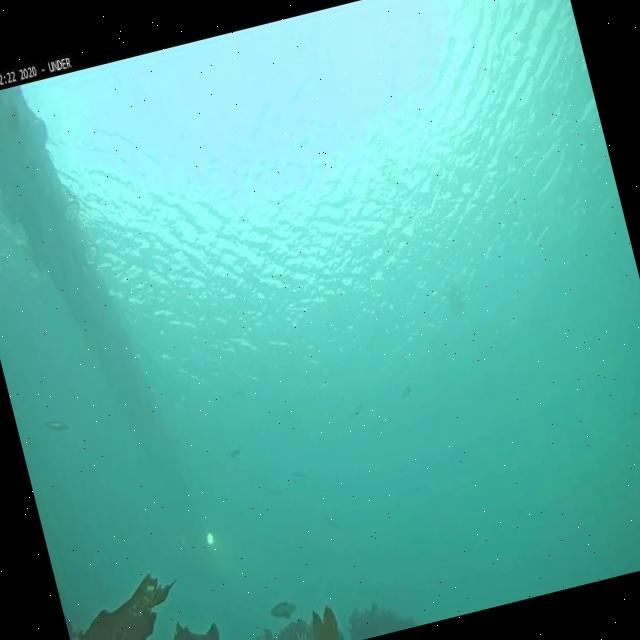fish: (266, 597, 300, 624), (43, 413, 71, 436), (346, 396, 368, 421), (323, 512, 339, 530), (288, 466, 308, 480), (228, 445, 242, 461)
